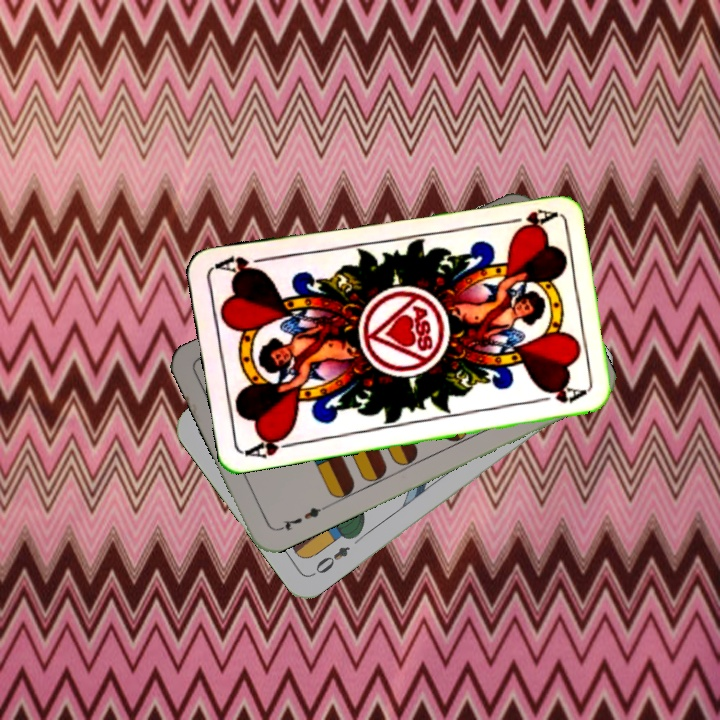E7: (274, 502, 329, 534)
EO: (308, 542, 353, 579)
HA: (242, 429, 301, 461), (498, 205, 557, 229)
